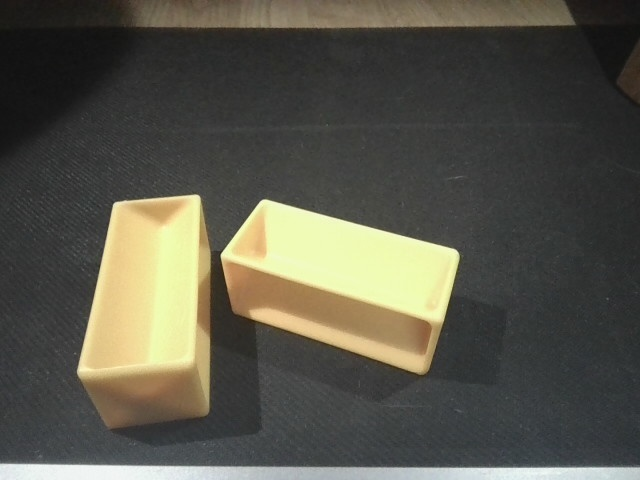YellowSample: (219, 196, 461, 381), (72, 190, 217, 430)
